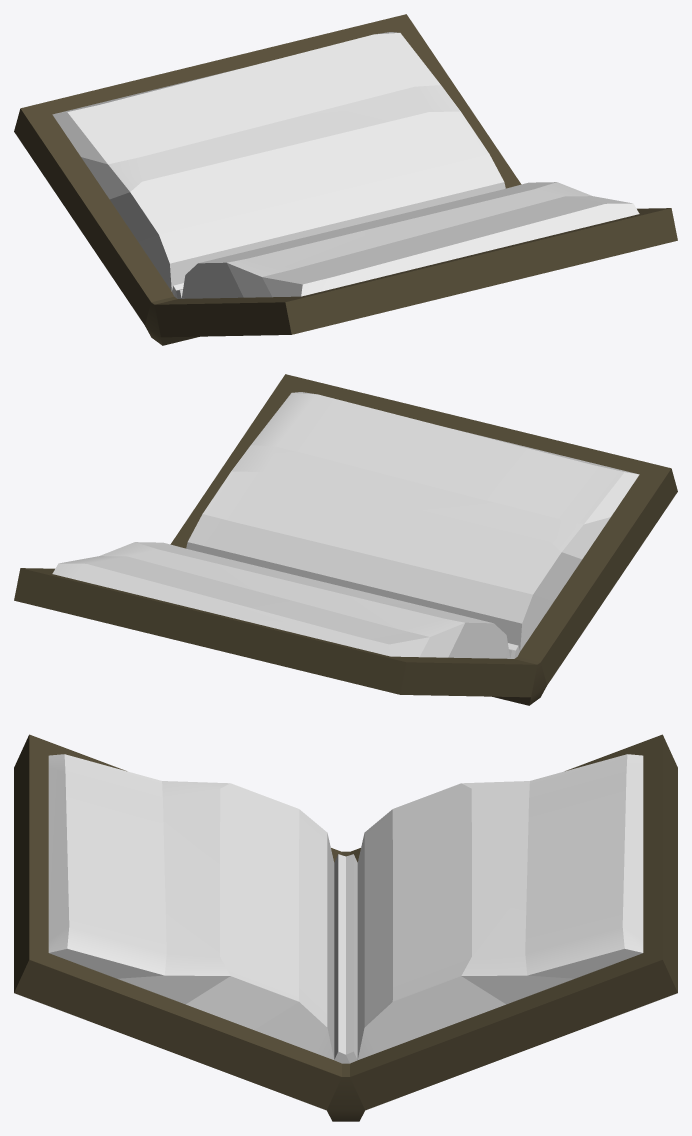
File: HealerBook.fbx
3 views of the same model, one above another, from view 1: azimuth 30°, elevation 25°; view 2: azimuth 150°, elevation 25°; view 3: azimuth 270°, elevation 25° (orthographic). The views are drawn at different scales.
Parts seen in each view (by area): view 1: pCube19; view 2: pCube19; view 3: pCube19.
Part boxes in pixels (x1,y1,x2,y2): pCube19: (14, 14, 677, 345); pCube19: (14, 374, 677, 705); pCube19: (14, 734, 677, 1121).
Size of the model in its own units: 0.3601 by 0.126 by 0.4485.
